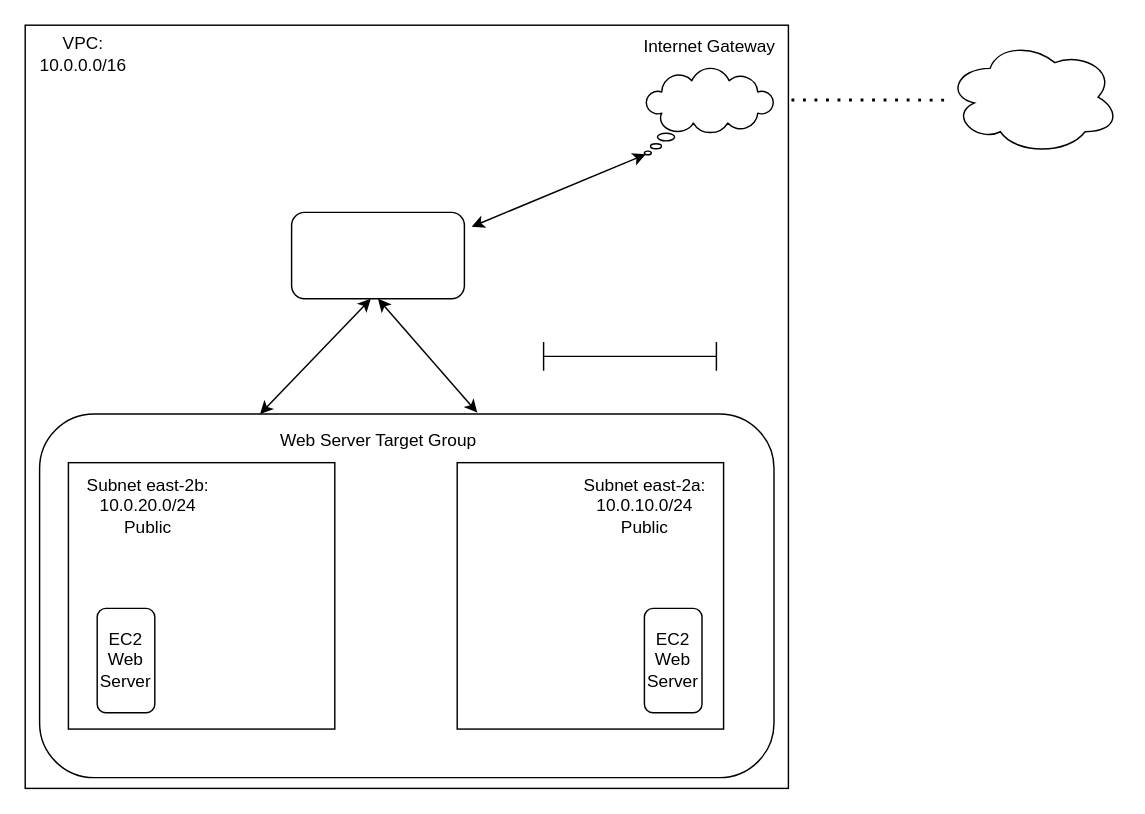
The diagram is 1145 pixels wide and 814 high, and some of its shapes have lost their labels. Each missing label, with the centre of its shape:
Application Load Balancer: pixel 377 255
Internet: pixel 1032 96
